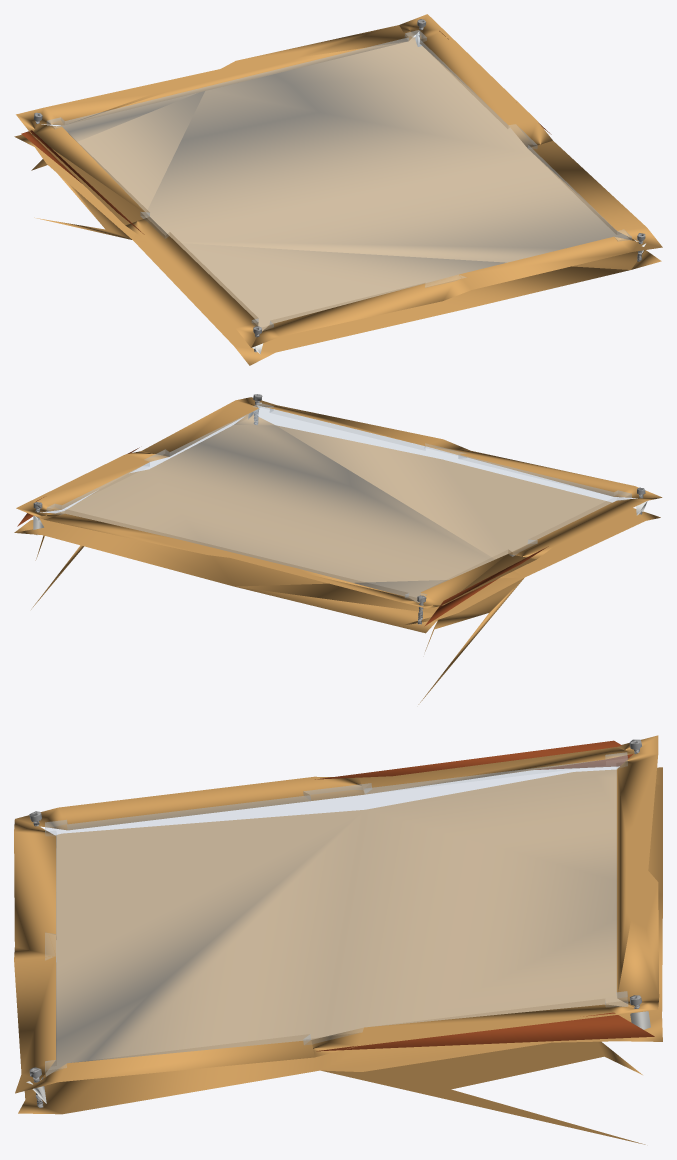
The model's file is model-lite.lod0.glb.
3 renders of one model, top to bottom at view 1: azimuth 30°, elevation 25°; view 2: azimuth 150°, elevation 25°; view 3: azimuth 270°, elevation 25°, orthographic. The views are drawn at different scales.
Visible parts, largest first — view 1: Body1, Body2, Body16; view 2: Body1, Body2, Body16, Body10; view 3: Body1, Body2, Body16, Body10.
Boxes of the visible parts, x1,y1,x2,y2 form: Body1: (14, 14, 662, 365); Body2: (46, 30, 631, 330); Body16: (21, 31, 551, 234); Body1: (14, 397, 662, 704); Body2: (46, 403, 631, 602); Body16: (17, 447, 548, 626); Body10: (33, 394, 645, 624); Body1: (14, 735, 662, 1144); Body2: (45, 752, 628, 1076); Body16: (315, 740, 654, 1051); Body10: (29, 739, 641, 1107).
Bounding box in the file's own units: 29.21 × 7.25 × 29.17.
